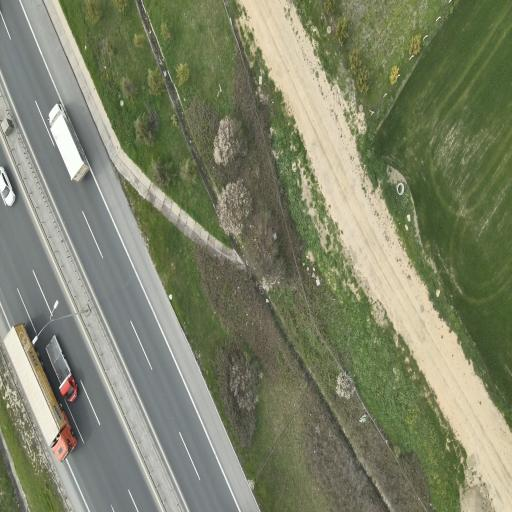car: (0, 167, 15, 205)
truck: (4, 324, 77, 461), (49, 104, 89, 181), (46, 335, 77, 402)
